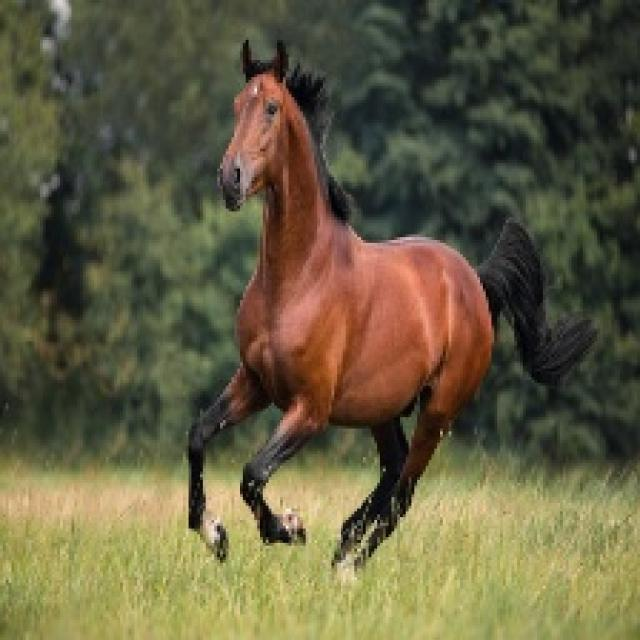bear: (106, 0, 540, 596)
